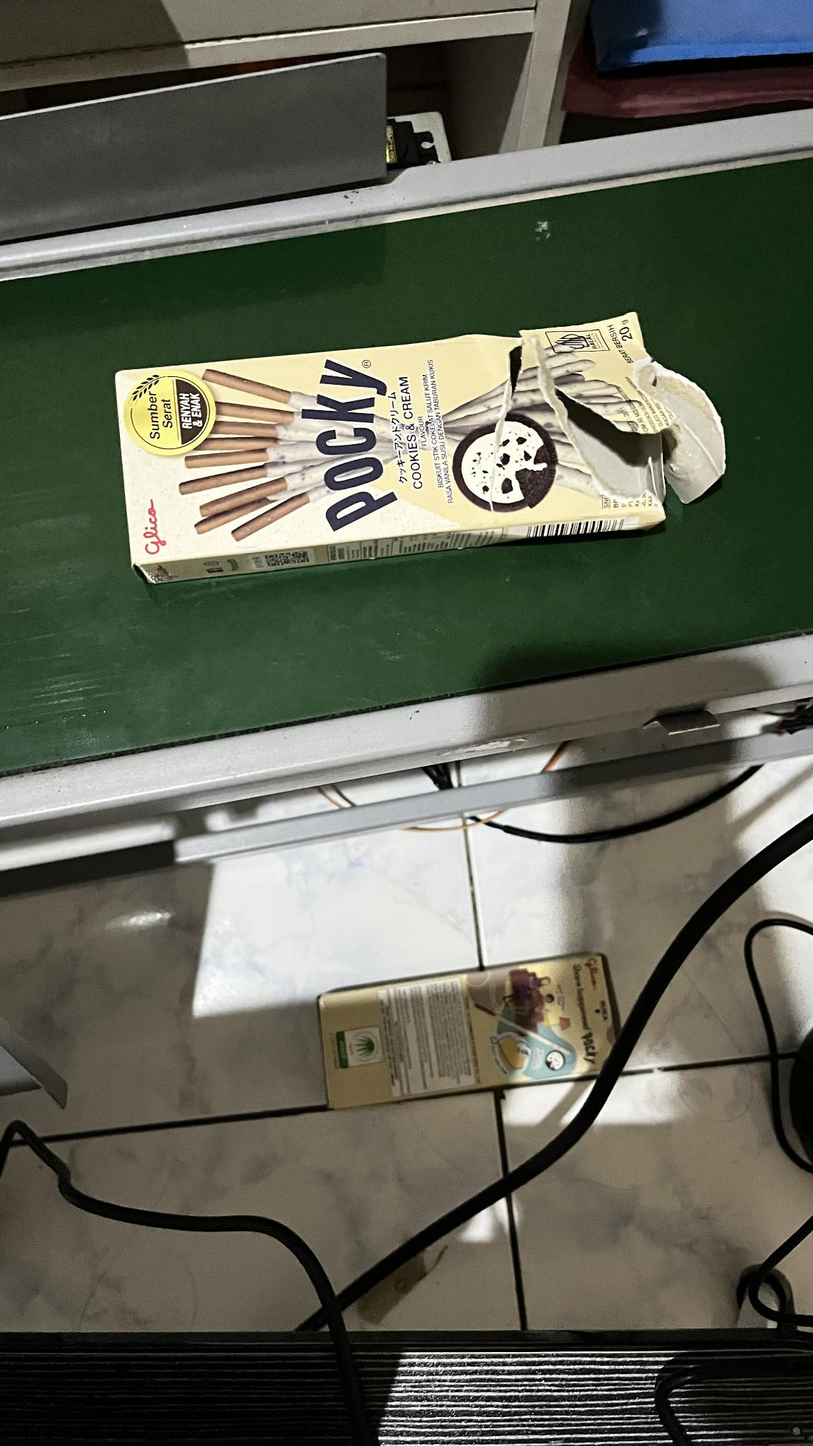Kertas: (118, 316, 681, 581)
